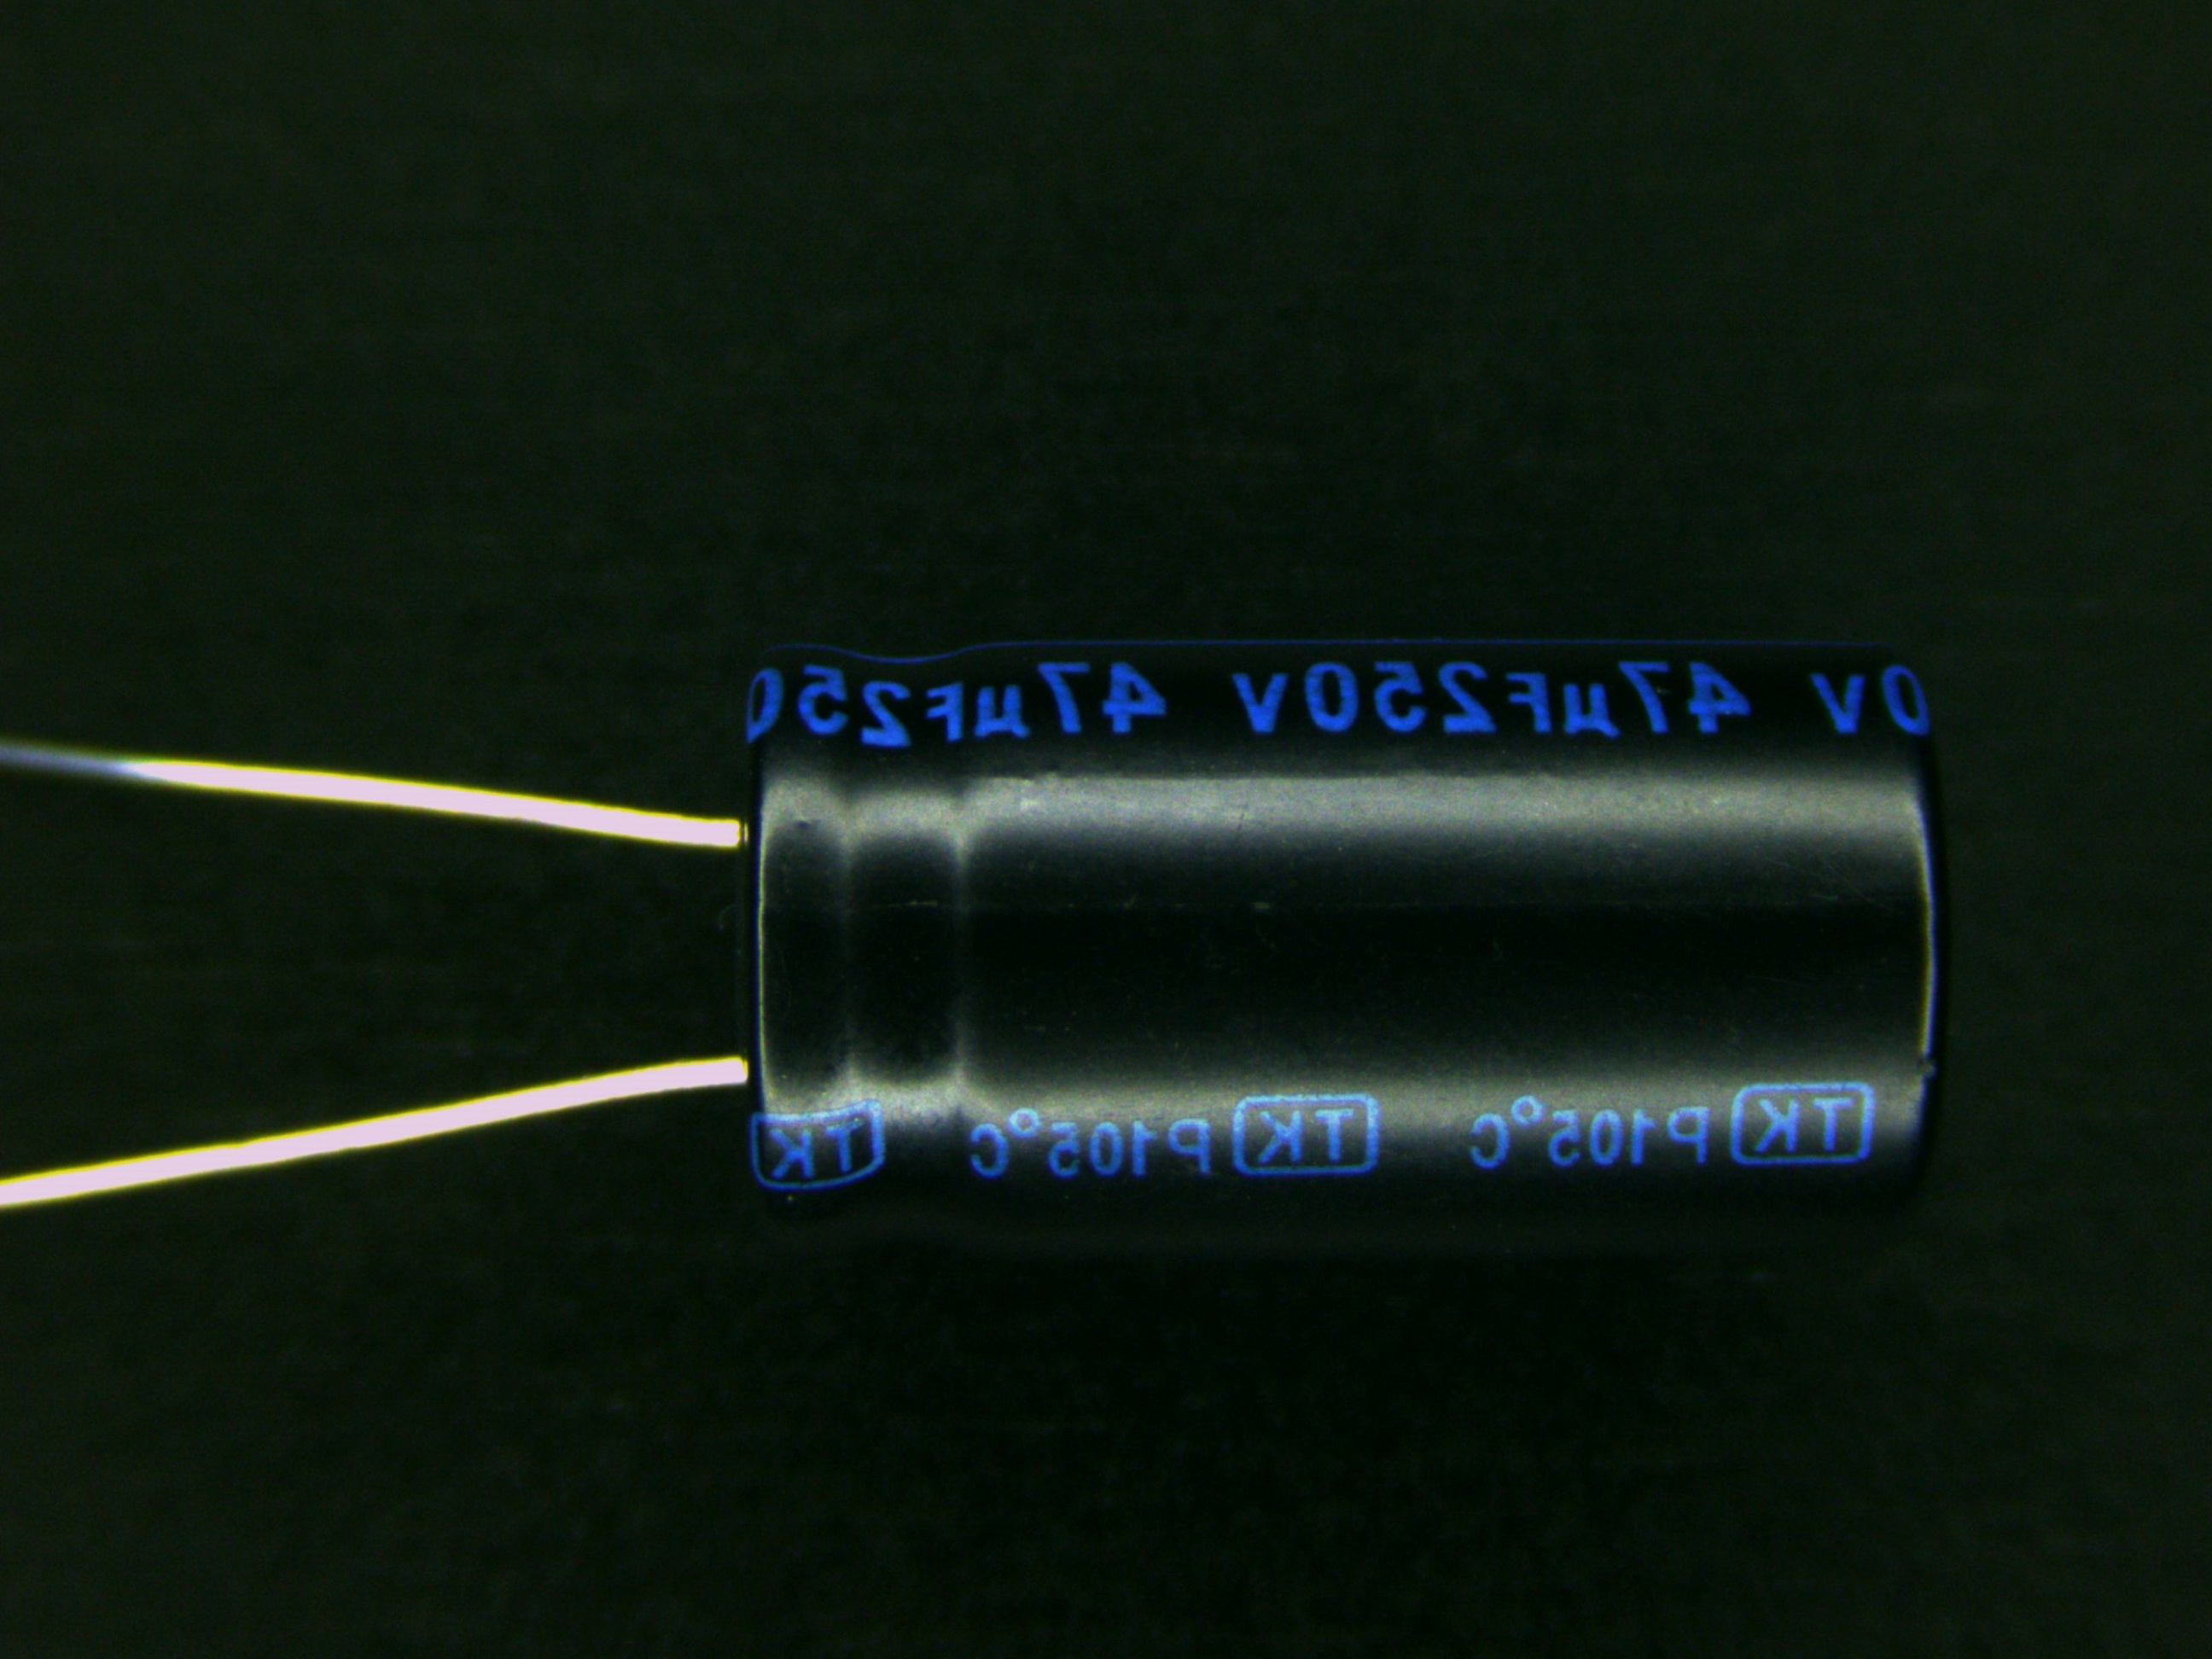c2: (563, 636, 1958, 1248)
